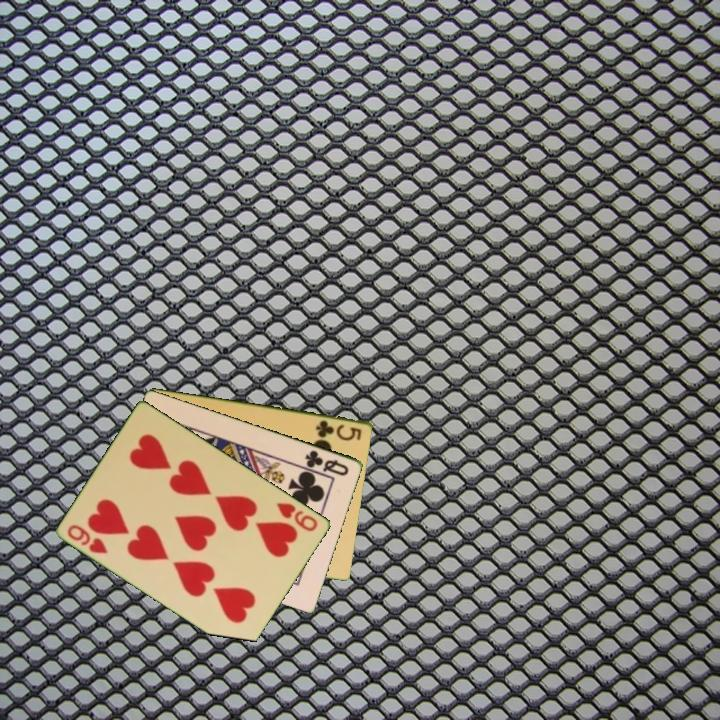5c: (313, 416, 365, 443)
9h: (64, 521, 111, 557), (273, 499, 321, 534)
Qc: (302, 446, 352, 479)
